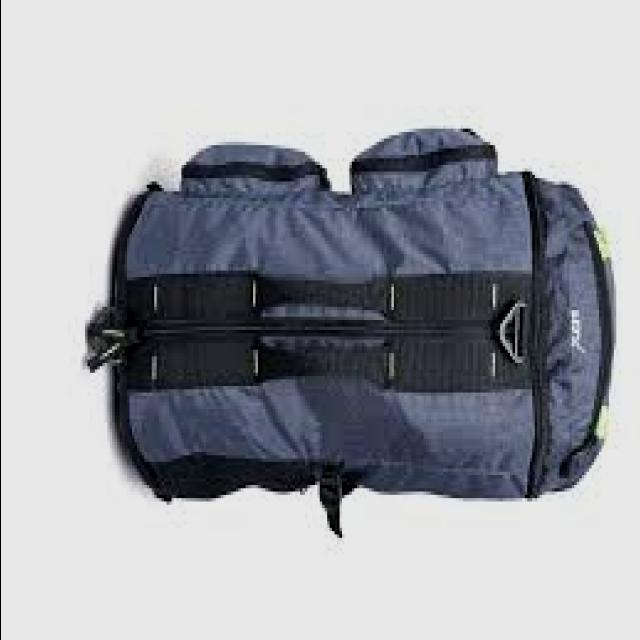backpack: (87, 127, 619, 539)
